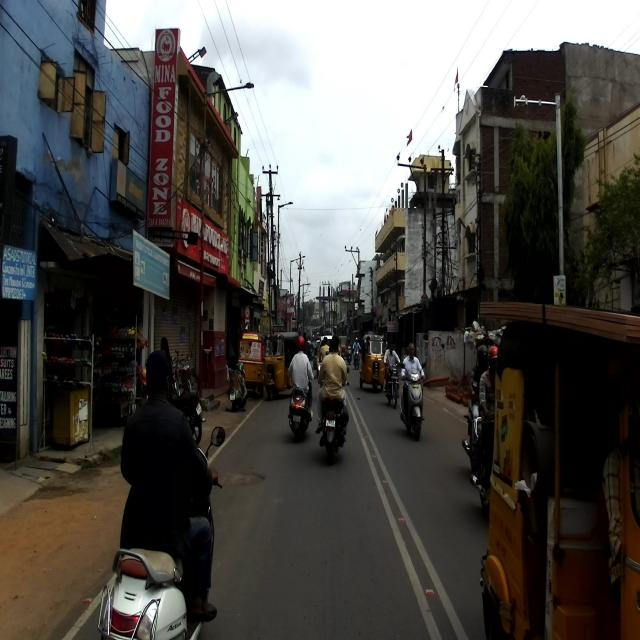autorickshaw: (475, 300, 639, 640), (358, 328, 386, 393)
motorcycle_Hero: (388, 363, 400, 406)
motorcycle_Yamaha: (316, 364, 349, 465)
scooter: (90, 437, 222, 639), (398, 361, 426, 441), (285, 374, 313, 445)
